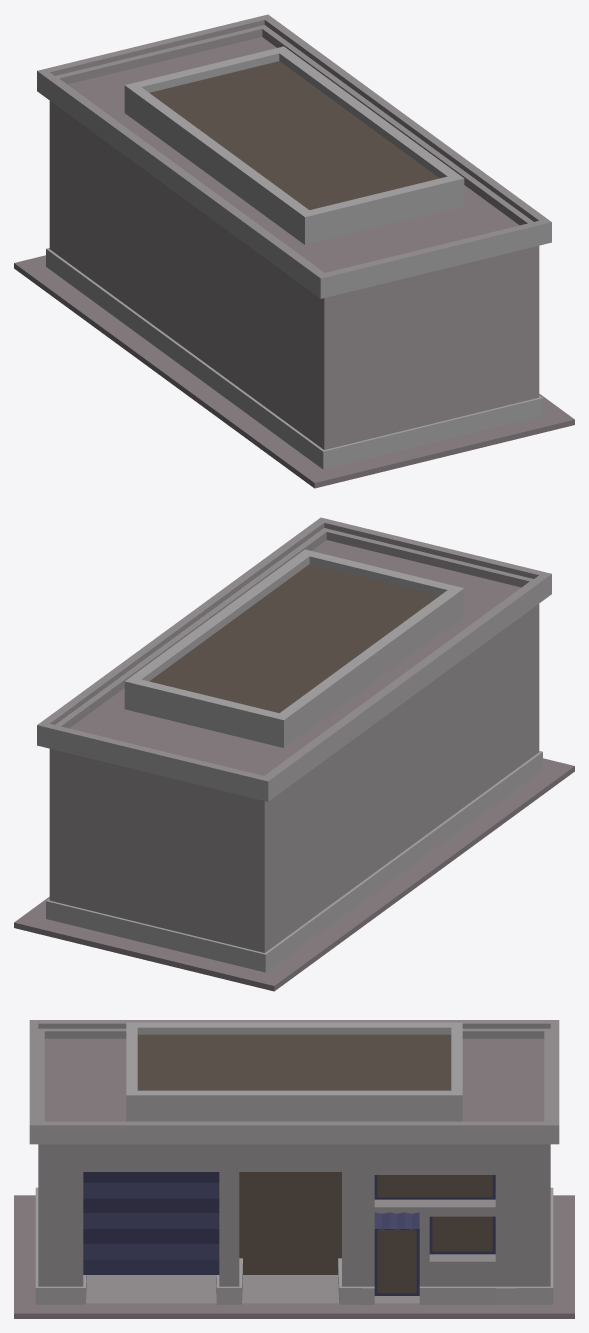
The model's file is building_1x2_0_g.glb.
3 renders of one model, top to bottom at view 1: azimuth 30°, elevation 25°; view 2: azimuth 150°, elevation 25°; view 3: azimuth 270°, elevation 25°, orthographic. The views are drawn at different scales.
Visible parts, largest first — view 1: Cube; view 2: Cube; view 3: Cube.
Boxes of the visible parts, left/top/right/bottom form: Cube: left=14, top=14, right=574, bottom=488; Cube: left=14, top=517, right=574, bottom=991; Cube: left=14, top=1020, right=574, bottom=1318.
Size of the model in its own units: 2 by 1.58 by 4.
